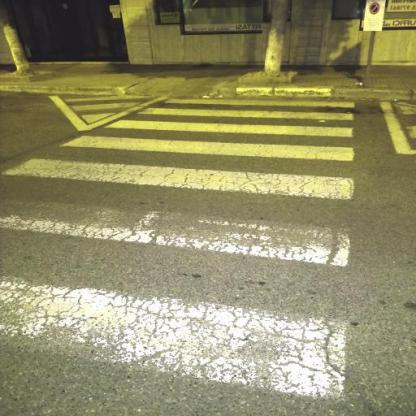crosswalk: (0, 133, 361, 205), (132, 93, 360, 124)
